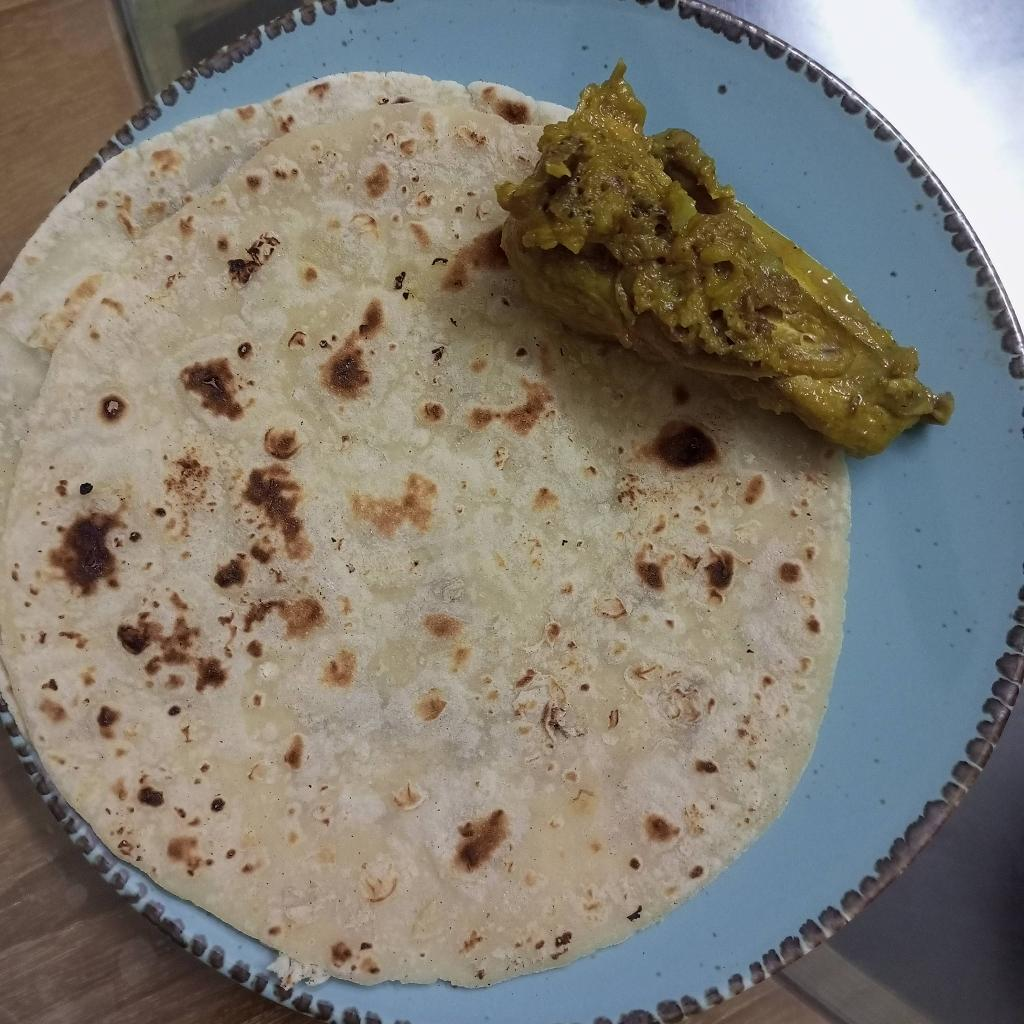chicken: (495, 65, 956, 456)
ruti: (0, 71, 850, 999)
